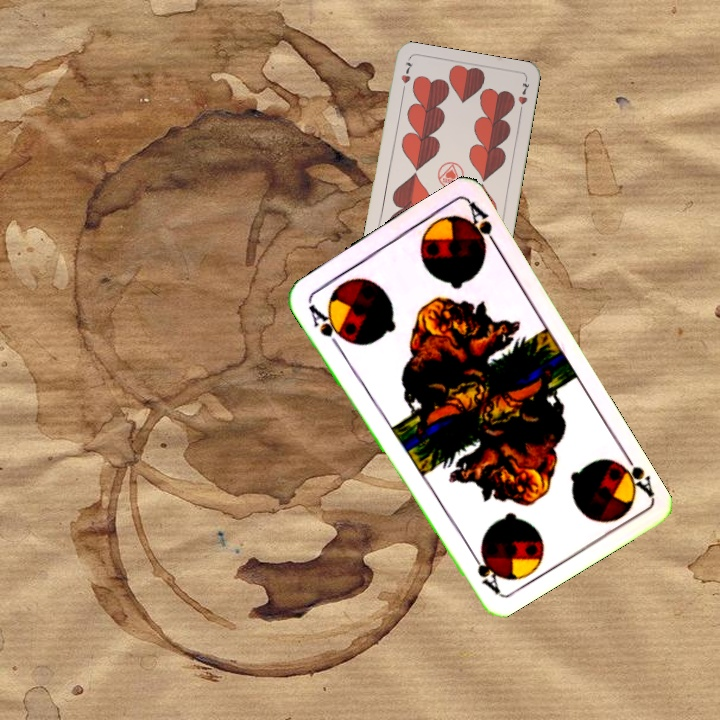H7: (397, 56, 415, 96)
SA: (607, 446, 657, 501), (304, 296, 349, 350)
